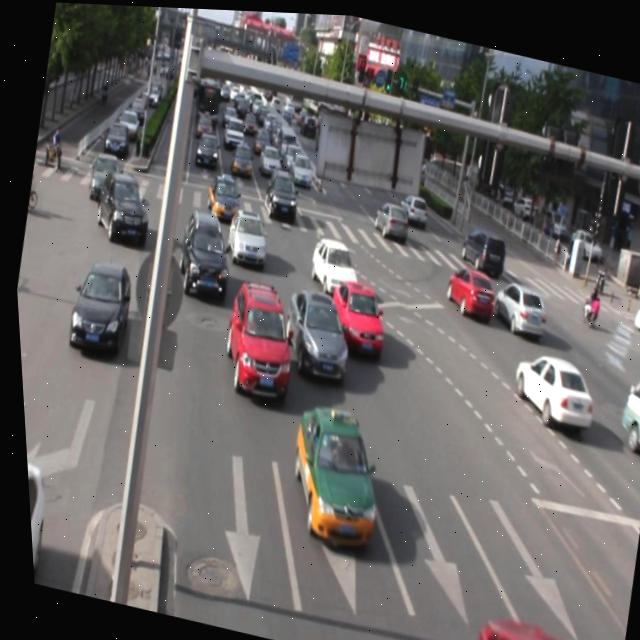car: (270, 395, 390, 551), (210, 272, 303, 401), (272, 281, 357, 381), (58, 252, 135, 361), (502, 341, 597, 425), (169, 204, 238, 304), (318, 270, 391, 360), (456, 604, 618, 640), (89, 167, 156, 248), (483, 271, 549, 333), (303, 230, 364, 296), (21, 457, 52, 585), (436, 257, 498, 318), (220, 203, 271, 267)
truck: (606, 361, 640, 457)
